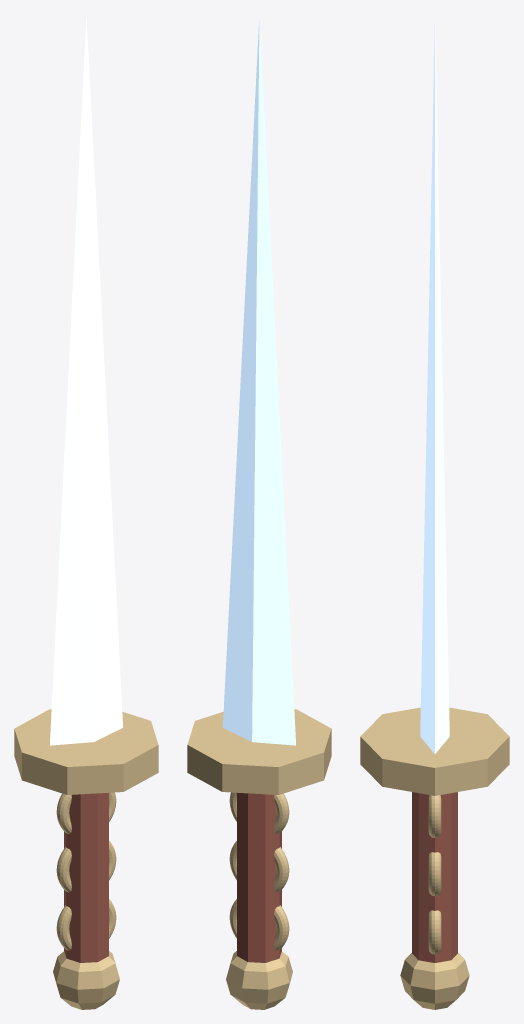
Rendered from sword.glb.
The picture shows the model from 3 angles, left to right: view 1: azimuth 30°, elevation 25°; view 2: azimuth 150°, elevation 25°; view 3: azimuth 270°, elevation 25°; orthographic projection.
Visible parts, largest first — view 1: blade, guard, grip, pommel, ring1, ring2, ring0; view 2: blade, guard, grip, pommel, ring1, ring2, ring0; view 3: blade, guard, grip, pommel, ring1, ring2, ring0.
Boxes of the visible parts, left/top/right/bottom form: blade: left=50, top=14, right=122, bottom=745; guard: left=14, top=709, right=158, bottom=794; grip: left=64, top=792, right=108, bottom=962; pommel: left=53, top=951, right=119, bottom=1009; ring1: left=56, top=841, right=116, bottom=892; ring2: left=56, top=899, right=116, bottom=950; ring0: left=56, top=792, right=116, bottom=833; blade: left=223, top=14, right=295, bottom=745; guard: left=187, top=709, right=331, bottom=794; grip: left=237, top=792, right=281, bottom=962; pommel: left=226, top=951, right=292, bottom=1009; ring1: left=229, top=841, right=289, bottom=892; ring2: left=229, top=899, right=289, bottom=950; ring0: left=229, top=792, right=289, bottom=833; blade: left=420, top=22, right=449, bottom=753; guard: left=360, top=707, right=509, bottom=795; grip: left=412, top=792, right=457, bottom=962; pommel: left=400, top=953, right=469, bottom=1009; ring1: left=428, top=852, right=441, bottom=896; ring2: left=428, top=910, right=441, bottom=954; ring0: left=428, top=795, right=441, bottom=837.
Bounding box in the file's own units: 0.116 × 0.852 × 0.116.
